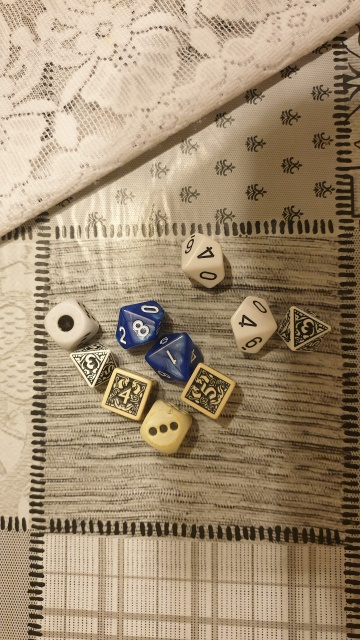d10-1: (138, 328, 200, 384)
d10-4: (175, 229, 227, 293), (225, 295, 275, 359)
d10-8: (111, 299, 169, 352)
d6-1: (41, 296, 98, 349)
d6-3: (137, 398, 191, 454)
d6p-4: (100, 366, 152, 424)
d6p-5: (181, 362, 237, 421)
d8p-3: (275, 303, 336, 354), (68, 342, 118, 389)
